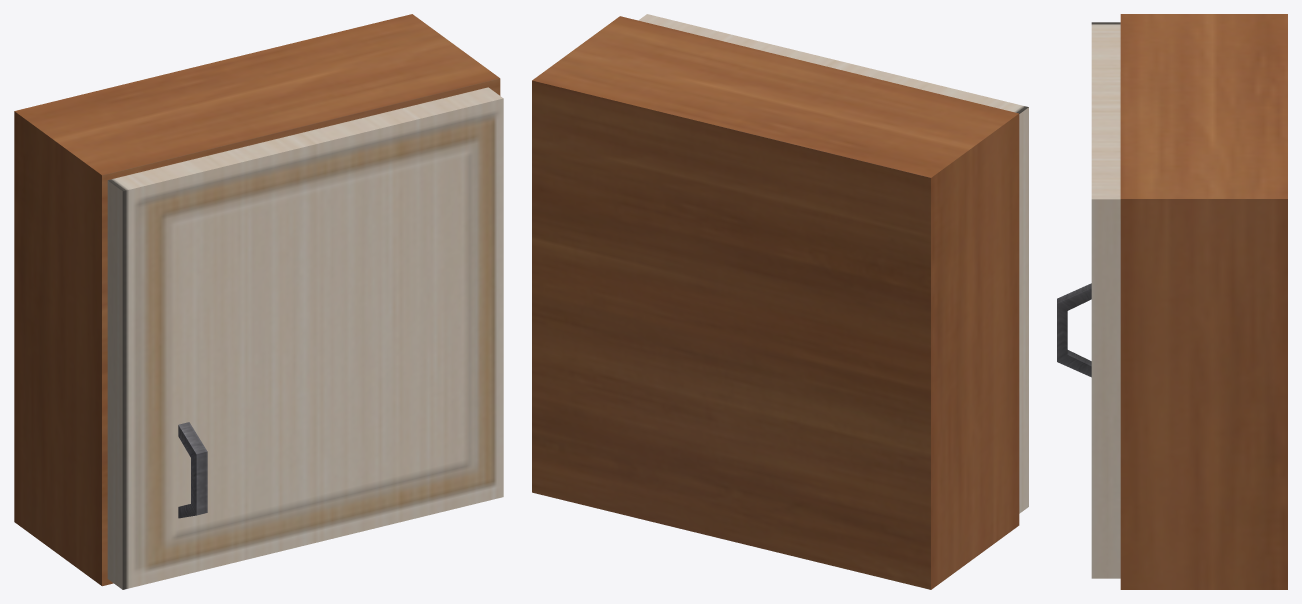
File: Cupboard_1_2.fbx
3 views of the same model, side by side, from view 1: azimuth 30°, elevation 25°; view 2: azimuth 150°, elevation 25°; view 3: azimuth 270°, elevation 25° (orthographic). The views are drawn at different scales.
Parts seen in each view (by area): view 1: polySurface1493; view 2: polySurface1493; view 3: polySurface1493.
Part boxes in pixels (left/top/right/bottom): polySurface1493: left=14, top=14, right=503, bottom=589; polySurface1493: left=532, top=14, right=1028, bottom=589; polySurface1493: left=1057, top=14, right=1287, bottom=589.
Bounding box in the file's own units: 0.9123 × 0.9 × 0.4813.
